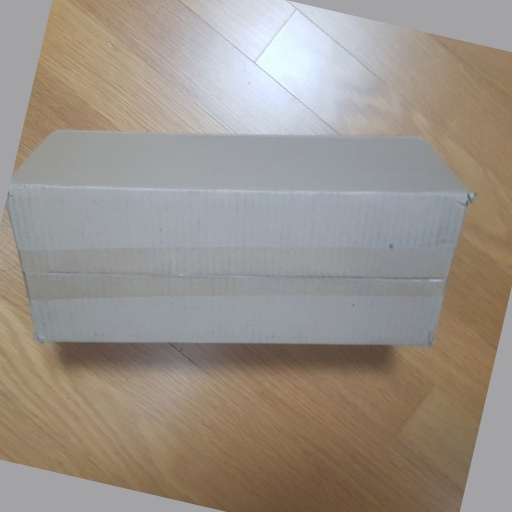Paper_0: (5, 124, 475, 348)
